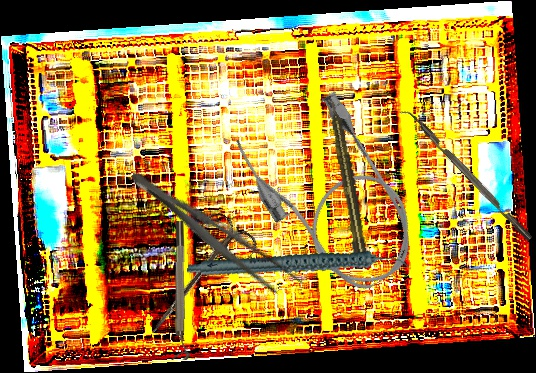Cannula: (226, 81, 436, 312)
Chopper: (397, 103, 533, 249)
Dressing Forceps: (123, 161, 307, 305)
Fixation Ring: (170, 220, 193, 361)
Handpiece: (186, 216, 411, 315), (325, 97, 371, 270)
Iris Scissors: (132, 207, 261, 353)
